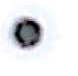cancer: (1, 5, 59, 61)
